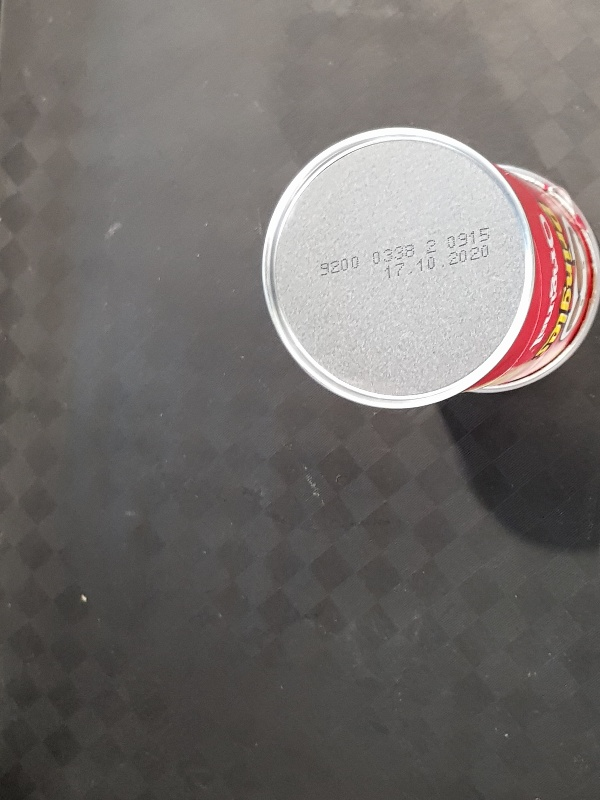Pringles Original: (260, 122, 600, 410)
